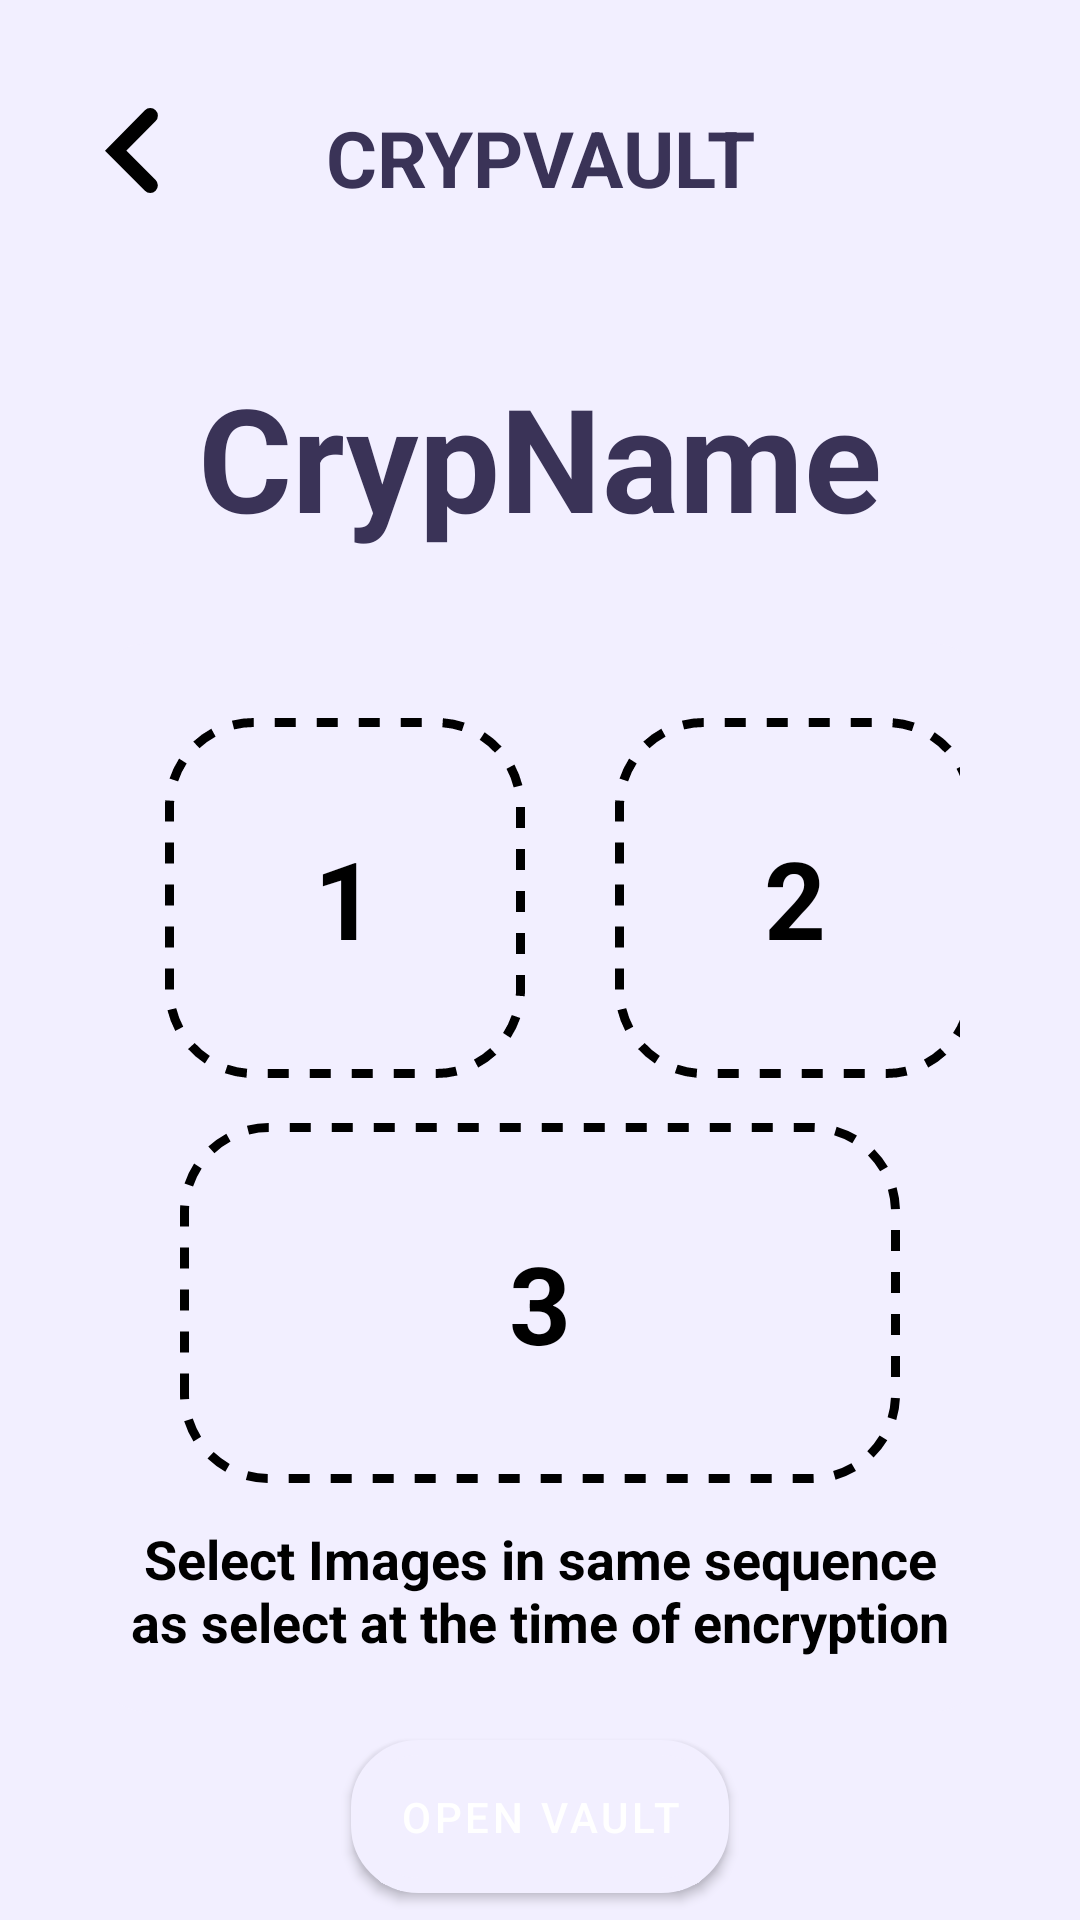

Icons on this 1080x1920 Android screen, each with the point to tap as (x=x, y=y):
back arrow: (x=131, y=150)
